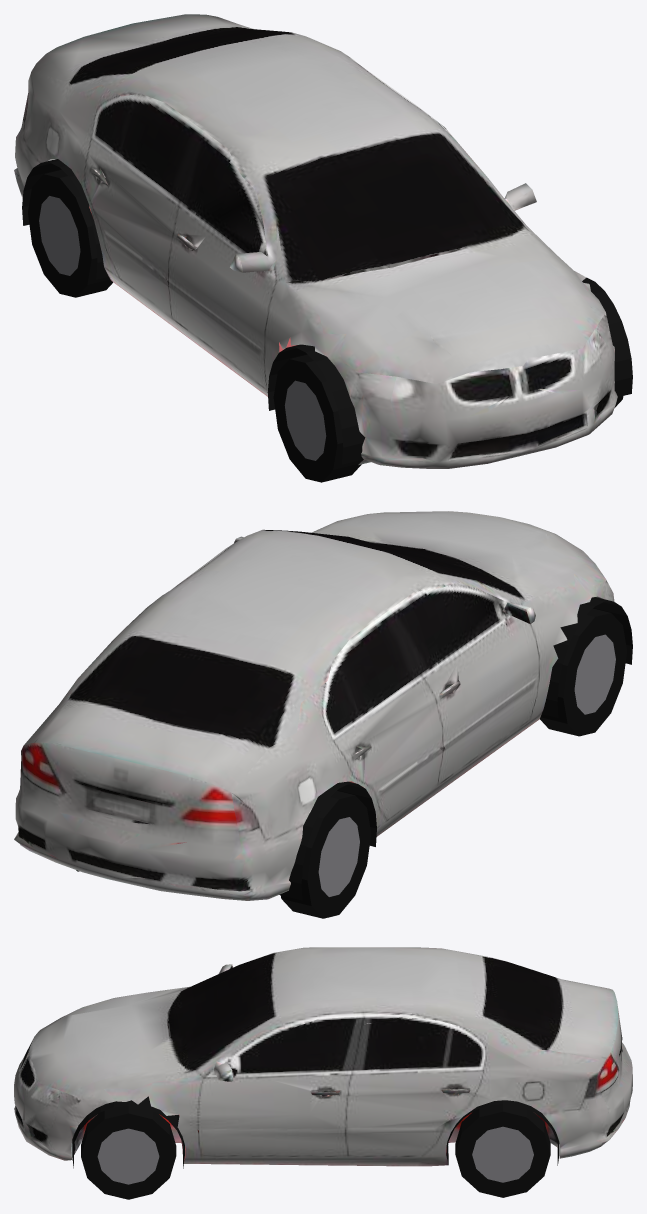
The model's file is saloon.glb.
The picture shows the model from 3 angles, top to bottom: view 1: azimuth 30°, elevation 25°; view 2: azimuth 150°, elevation 25°; view 3: azimuth 270°, elevation 25°; orthographic projection. The views are drawn at different scales.
Parts seen in each view (by area): view 1: saloon, wheel_fr, wheel_rr; view 2: saloon, wheel_rr, wheel_fr; view 3: saloon, wheel_rl, wheel_fl.
Part boxes in pixels (x1,y1,x2,y2): saloon: [14, 14, 632, 468]; wheel_fr: [273, 354, 363, 482]; wheel_rr: [28, 170, 112, 297]; saloon: [14, 511, 632, 900]; wheel_rr: [280, 791, 371, 918]; wheel_fr: [540, 608, 626, 736]; saloon: [14, 947, 632, 1168]; wheel_rl: [455, 1103, 550, 1197]; wheel_fl: [81, 1105, 176, 1199].
Size of the model in its own units: 1.88 by 1.41 by 4.5.
1 material, 1 textured.
